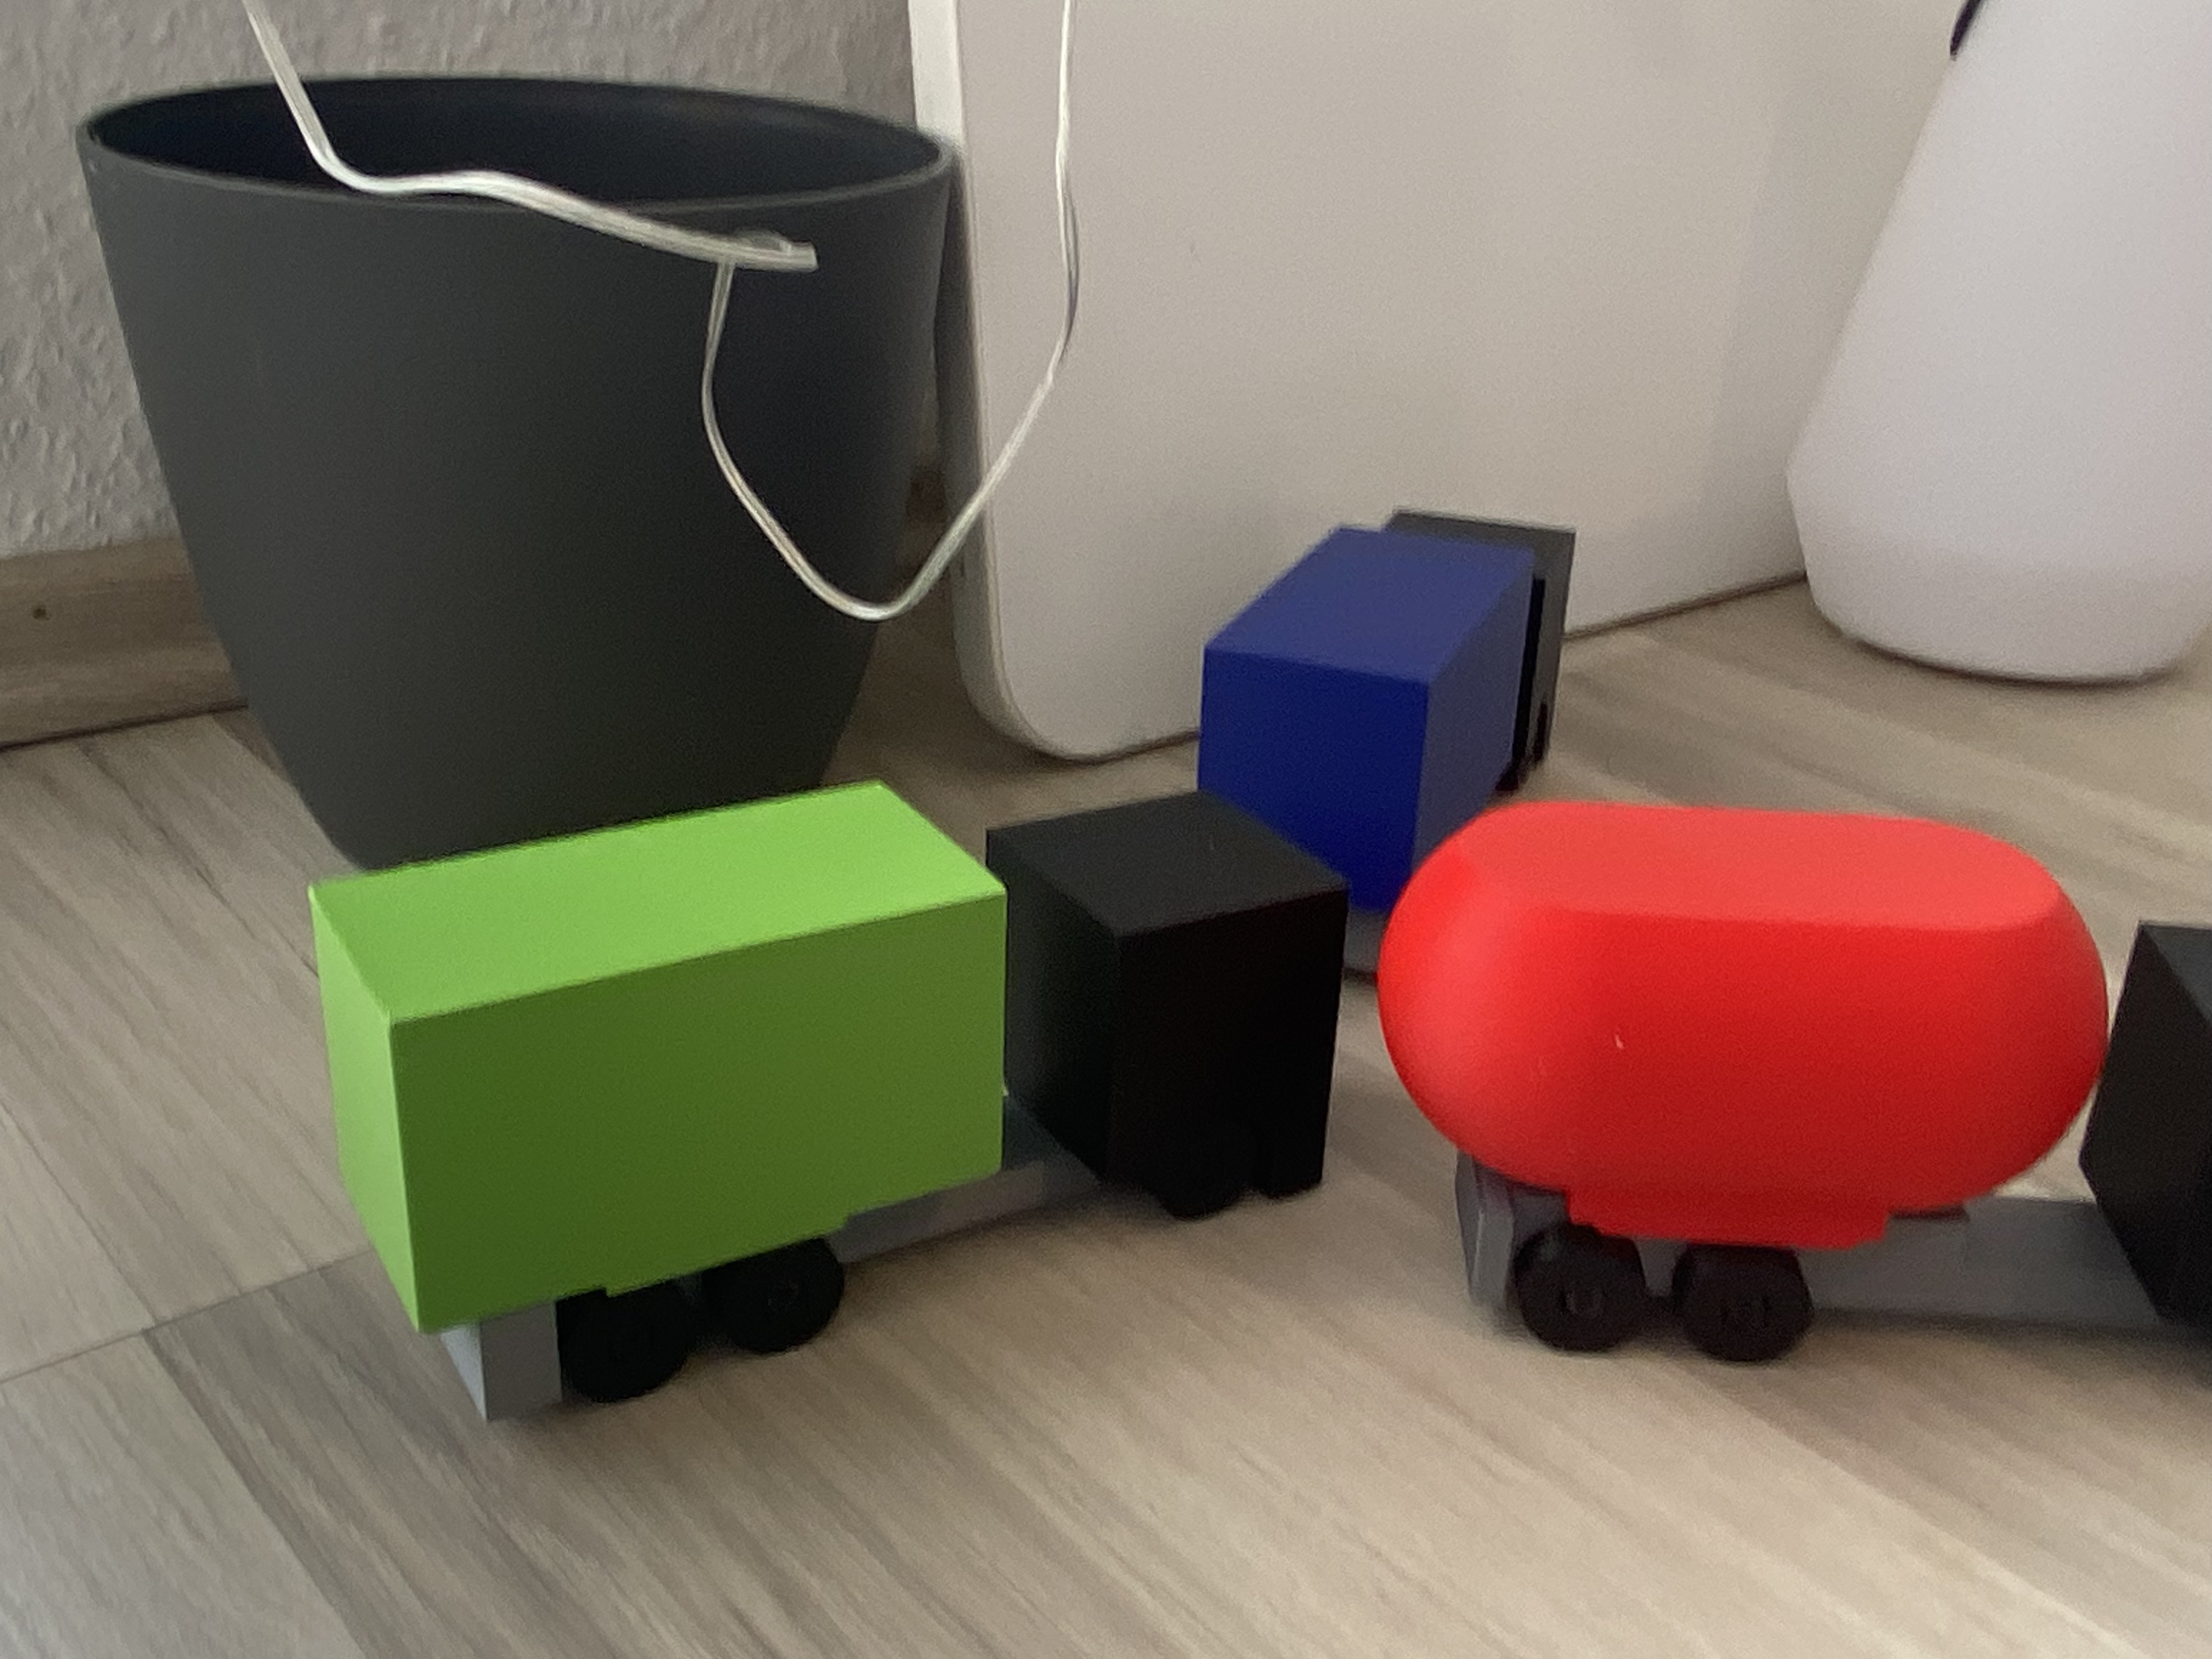blue_truck: (1221, 457, 1573, 870)
green_truck: (333, 779, 1385, 1366)
red_truck: (1378, 803, 2212, 1377)
